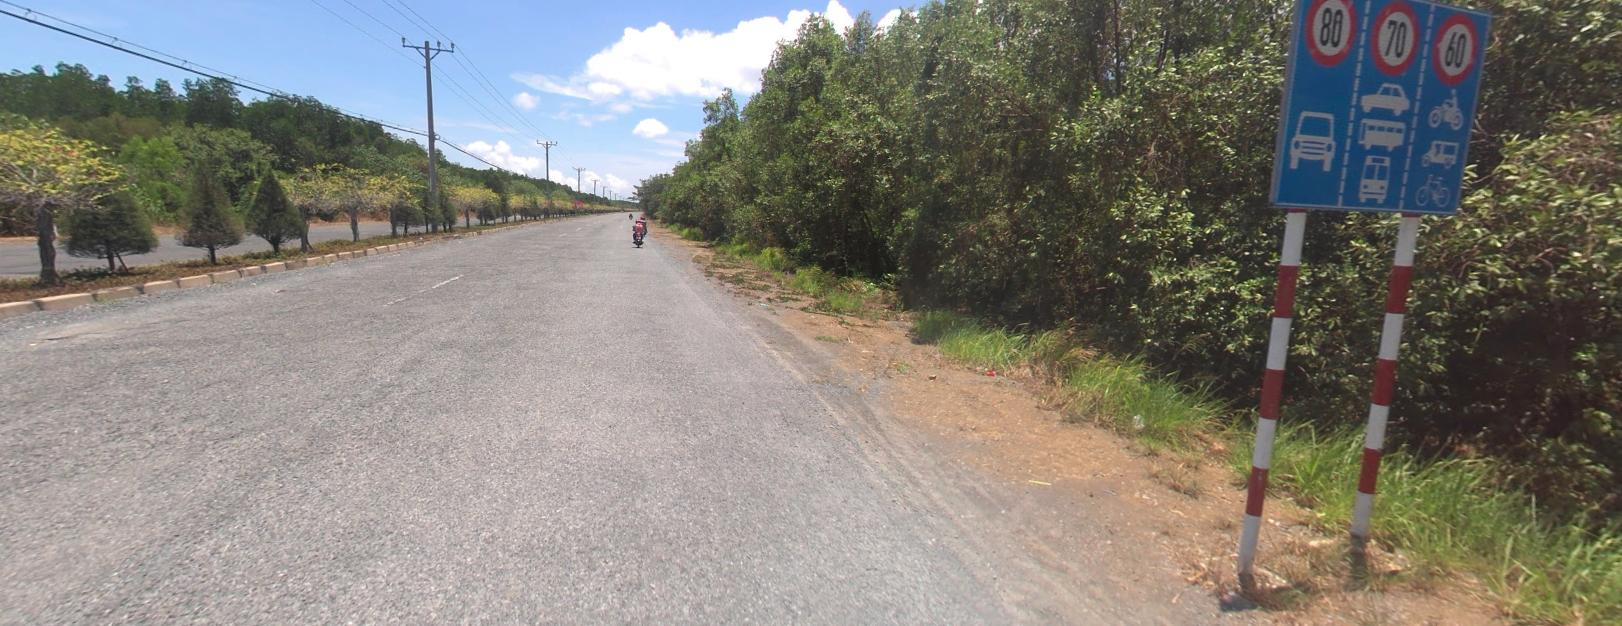Gioi han toc do: (1369, 1, 1419, 76), (1303, 0, 1356, 66), (1433, 13, 1476, 84)
